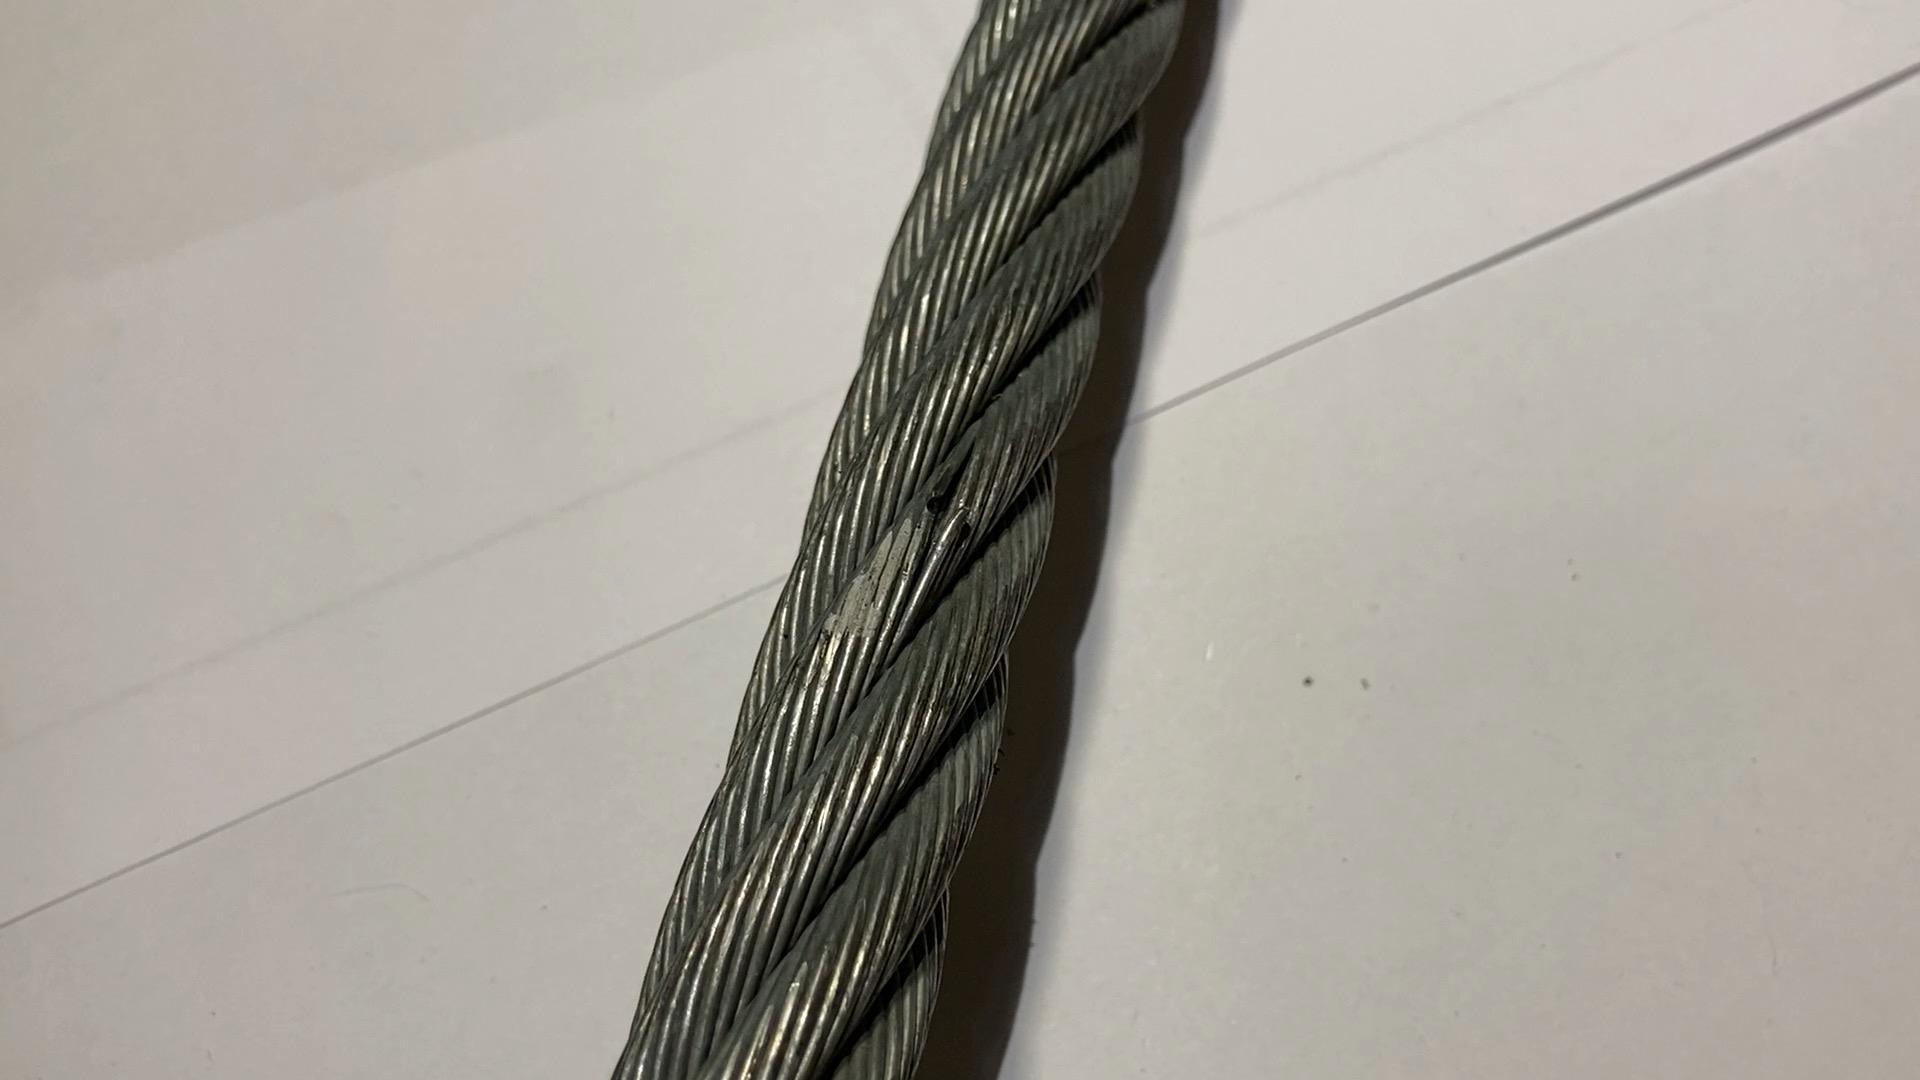break: (891, 454, 984, 563)
